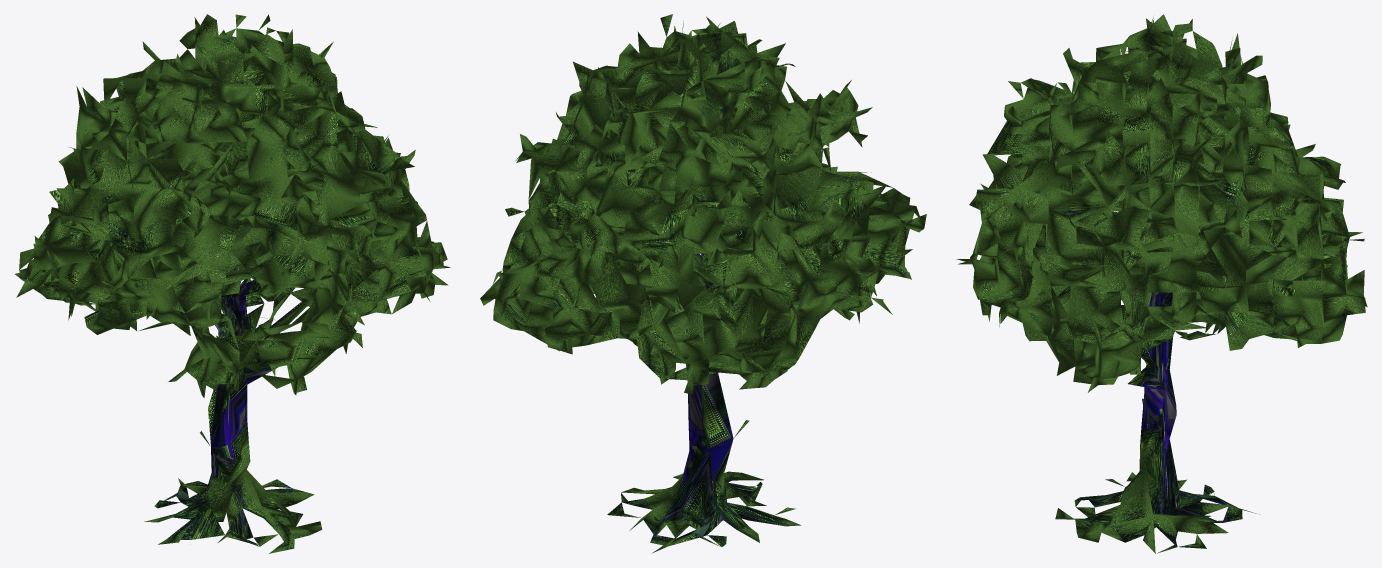
File: pohon-lite.glb
3 renders of one model, left to right at view 1: azimuth 30°, elevation 25°; view 2: azimuth 150°, elevation 25°; view 3: azimuth 270°, elevation 25°, orthographic.
Parts seen in each view (by area): view 1: mesh_node; view 2: mesh_node; view 3: mesh_node.
Part boxes in pixels (left/top/right/bottom): mesh_node: left=15, top=14, right=450, bottom=553; mesh_node: left=480, top=14, right=926, bottom=553; mesh_node: left=956, top=14, right=1367, bottom=553.
Bounding box in the file's own units: 1.54 × 1.88 × 1.43.
1 material, 1 textured.
